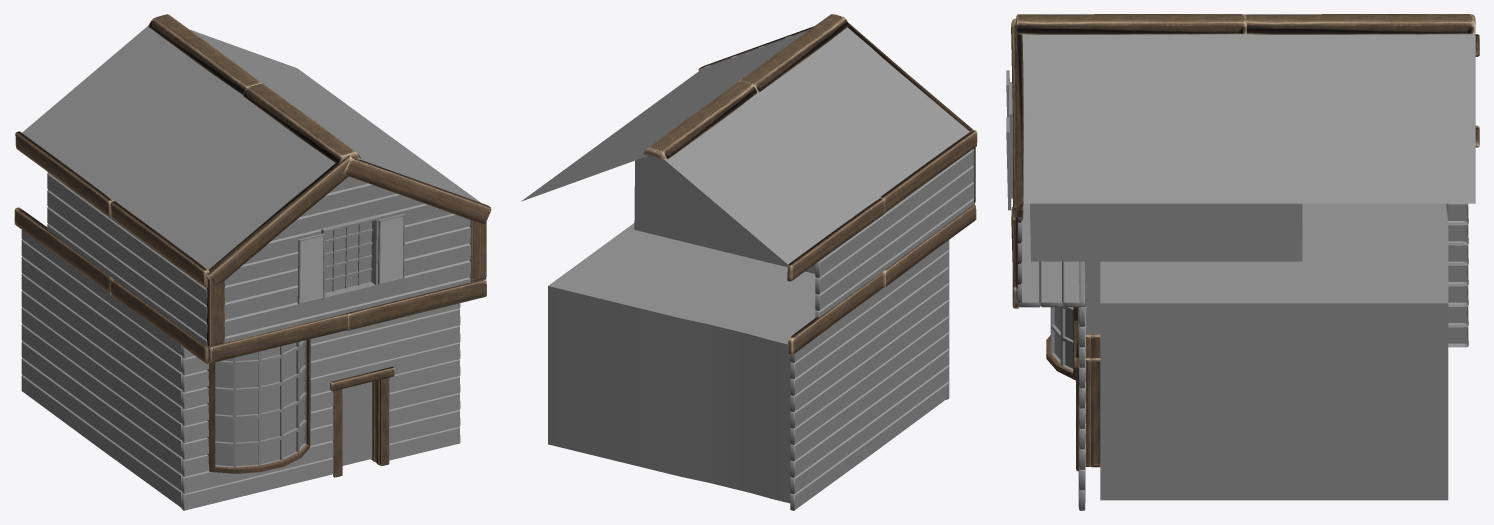
The model's file is Shop_01.FBX.
3 views of the same model, side by side, from view 1: azimuth 30°, elevation 25°; view 2: azimuth 150°, elevation 25°; view 3: azimuth 270°, elevation 25° (orthographic). The views are drawn at different scales.
Parts seen in each view (by area): view 1: Shop_Base, Shop_Roof, Shop_Beams, Shop_WindowGlass, Shop_Window_Top, ShopWindow_02, Shop_DoorWay, Shop_Door, ShopWindow_Frame_02; view 2: Shop_Innards, Shop_Roof, Shop_Base, Shop_Beams; view 3: Shop_Innards, Shop_Roof, Shop_Beams, Shop_Base, Shop_DoorWay, Shop_Window_Top, Shop_WindowGlass, ShopWindow_02.
Boxes of the visible parts, x1,y1,x2,y2 form: Shop_Base: (21,171,486,510); Shop_Roof: (22,25,480,269); Shop_Beams: (14,14,491,363); Shop_WindowGlass: (215,221,371,466); Shop_Window_Top: (297,214,405,304); ShopWindow_02: (215,224,372,467); Shop_DoorWay: (330,366,394,477); Shop_Door: (342,382,372,465); ShopWindow_Frame_02: (207,339,310,473); Shop_Innards: (548,155,815,503); Shop_Roof: (521,27,969,264); Shop_Base: (704,28,974,510); Shop_Beams: (643,14,977,355); Shop_Innards: (1030,203,1448,500); Shop_Roof: (1023,18,1475,203); Shop_Beams: (1011,14,1479,308); Shop_Base: (1016,35,1468,510); Shop_DoorWay: (1074,321,1100,471); Shop_Window_Top: (1006,70,1012,210); Shop_WindowGlass: (1054,307,1073,368); ShopWindow_02: (1050,306,1073,365).
Bounding box in the file's own units: 760 × 876 × 903.
